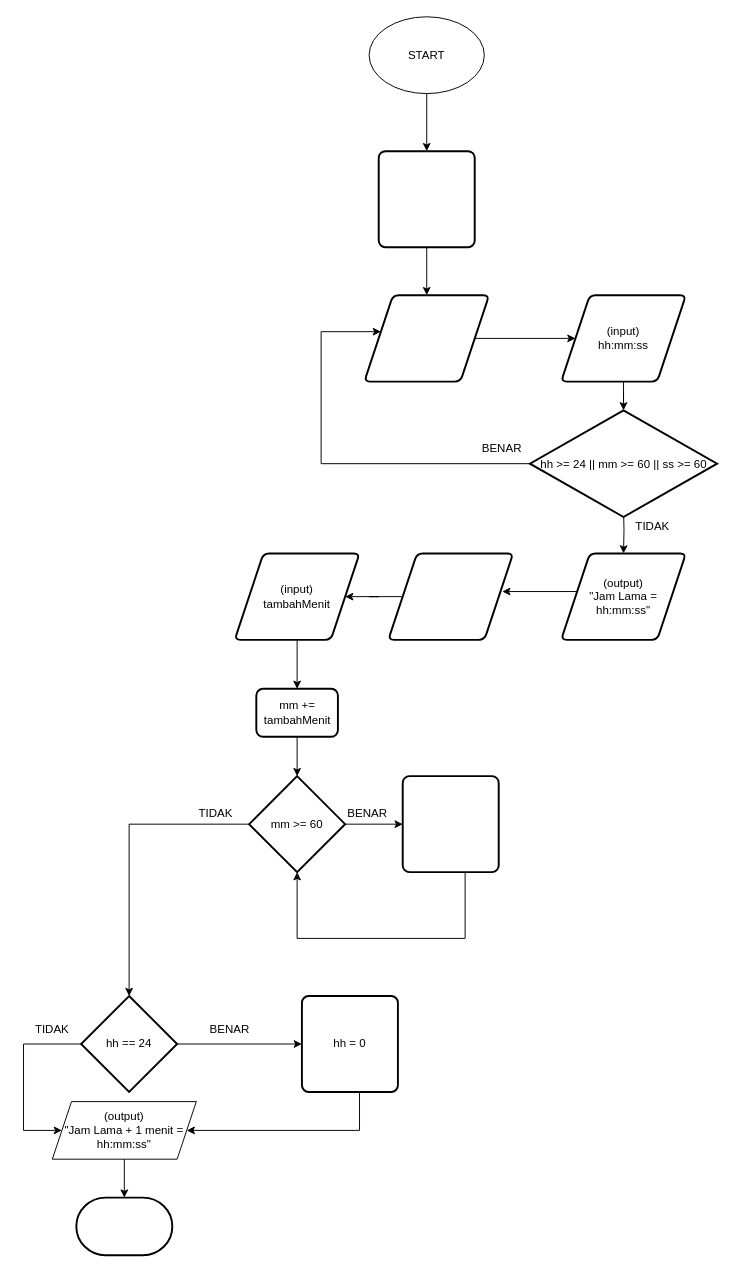
Some shapes in this 734 by 1273 pixel diagram are drawn without their labels. The shapes that lost their labels are listed below. From the top down, each one's box as (x1, y1, x2, y2) in pixels, then its label:
(377, 150, 475, 248): int hh int mm int ss int tambahMenit
(363, 294, 490, 382): (output) "Masukkan Jam (hh:mm:ss)"
(387, 552, 514, 640): (output) "Ingin Menambah Berapa Menit?"
(401, 775, 499, 873): mm -= 60 hh+= 1
(75, 1196, 173, 1256): END
